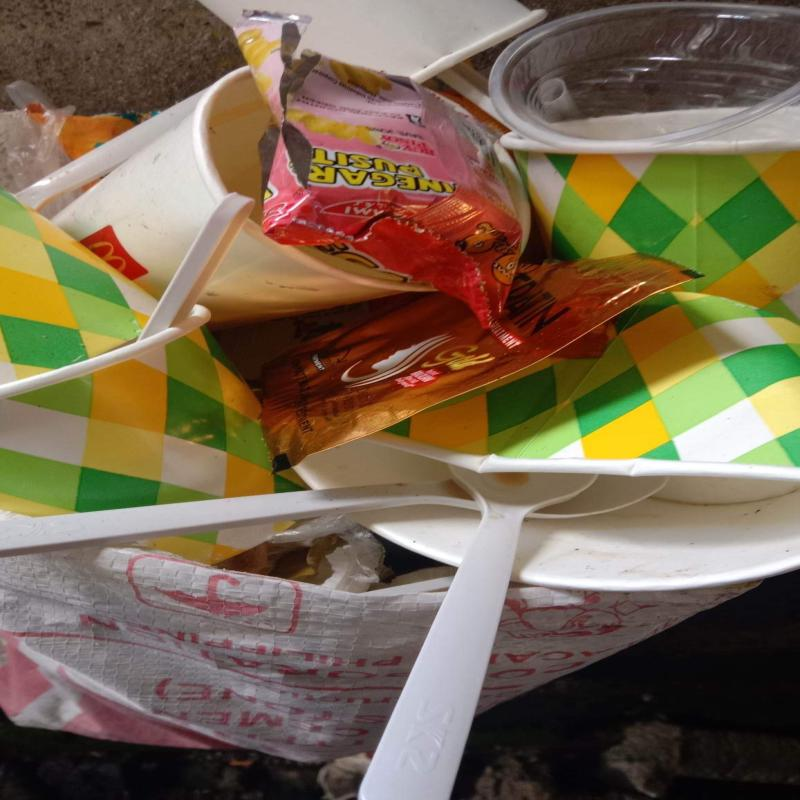cardboard: (296, 288, 800, 591), (0, 304, 315, 564), (500, 110, 800, 322), (0, 187, 181, 387)
food wrapper: (234, 11, 534, 330)
plastic sachet: (259, 254, 702, 470)
